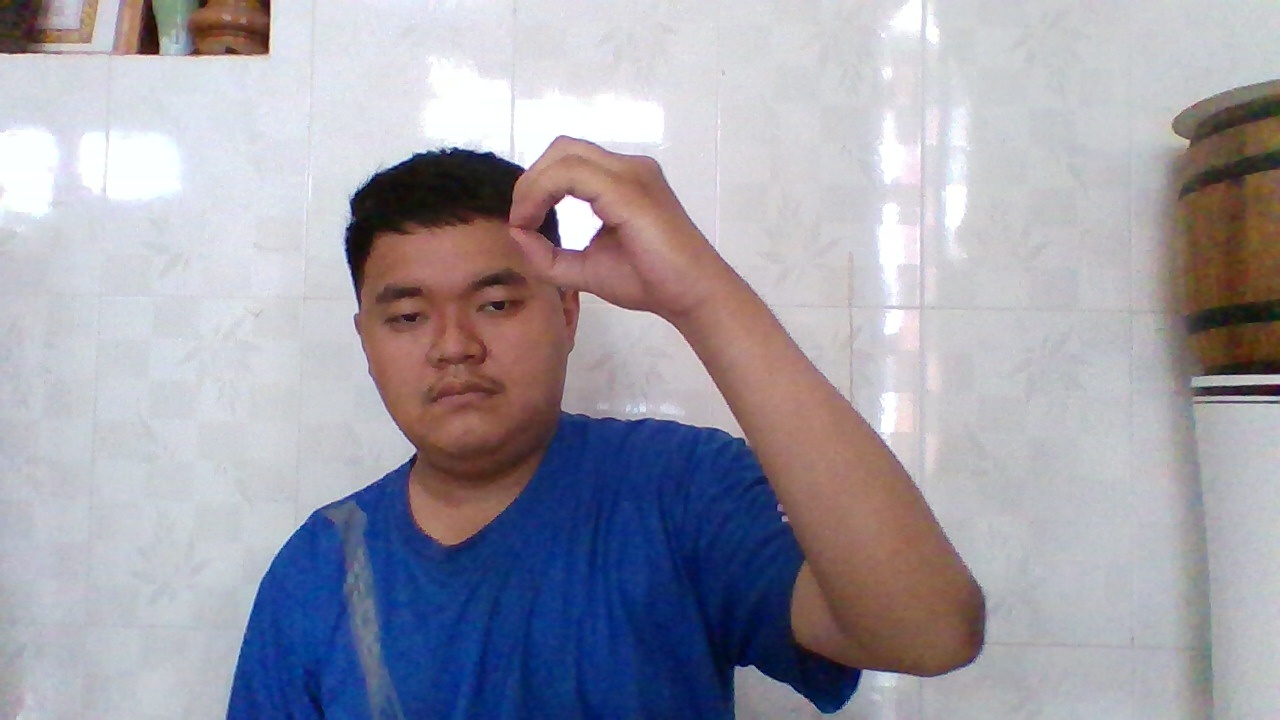O: (503, 129, 713, 316)
